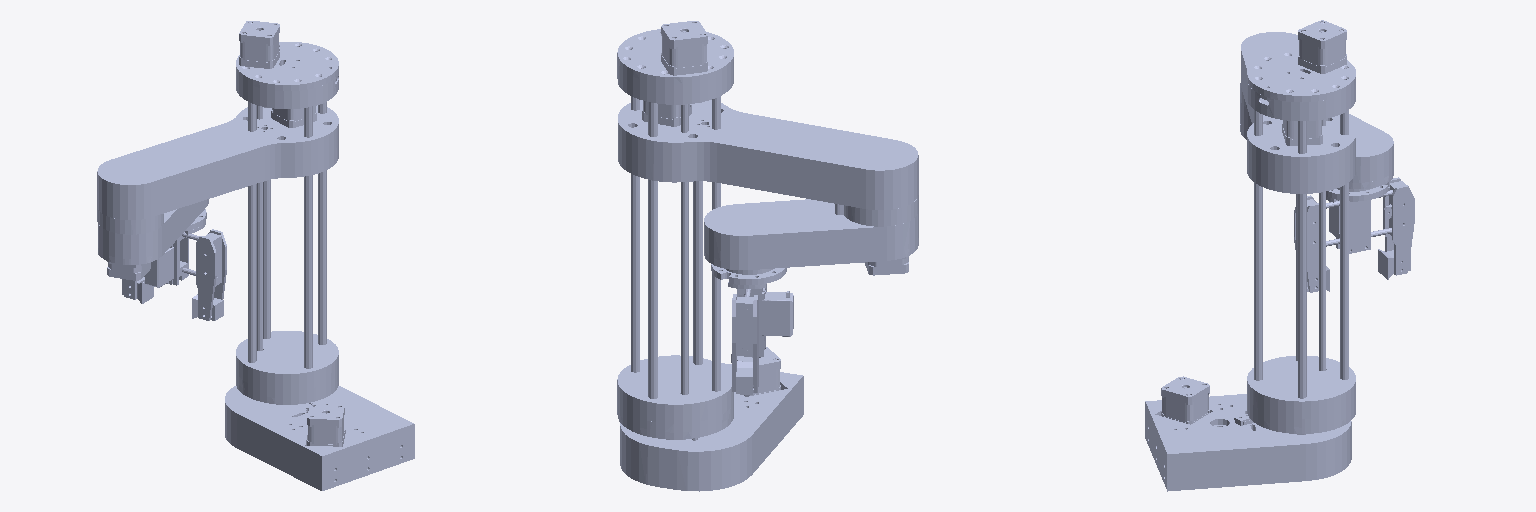
robot.urdf — scara:
<?xml version="1.0" encoding="utf-8" ?>
<!-- This URDF was automatically created by SolidWorks to URDF Exporter! Originally created by [author] ([email redacted]) 
     Commit Version: 1.6.0-4-g7f85cfe  Build Version: 1.6.7995.38578
     For more information, please see http://wiki.ros.org/sw_urdf_exporter -->
<robot name="scara">
    <link name="base_link">
        <inertial>
            <origin xyz="-0.0559432148005522 0.107400404608301 -0.0136704490477564" rpy="0 0 1.745" />
            <mass value="0.567696033845706" />
            <inertia ixx="0.00117832007044877" ixy="-1.32722472852787E-05" ixz="-5.74547542664142E-06" iyy="0.00333381453526779" iyz="-5.81917585828392E-06" izz="0.0023319205252071" />
        </inertial>
        <visual>
            <origin xyz="0 0 0" rpy="0 0 1.745" />
            <geometry>
                <mesh filename="package://scara/meshes/base_link.STL" />
            </geometry>
            <material name="">
                <color rgba="0.792156862745098 0.819607843137255 0.933333333333333 1" />
            </material>
        </visual>
        <collision>
            <origin xyz="0 0 0" rpy="0 0 1.745" />
            <geometry>
                <mesh filename="package://scara/meshes/base_link.STL" />
            </geometry>
        </collision>
    </link>
    <link name="link1">
        <inertial>
            <origin xyz="0.00398515070749521 0.0012304734885111 0.208628021985498" rpy="0 0 0" />
            <mass value="0.592388184768862" />
            <inertia ixx="0.00230324008307559" ixy="4.54488451690003E-06" ixz="-8.19813165922092E-07" iyy="0.00229028805782372" iyz="-4.98199551456662E-08" izz="0.000745657593833466" />
        </inertial>
        <visual>
            <origin xyz="0 0 0" rpy="0 0 263" />
            <geometry>
                <mesh filename="package://scara/meshes/link1.STL" />
            </geometry>
            <material name="">
                <color rgba="0.792156862745098 0.819607843137255 0.933333333333333 1" />
            </material>
        </visual>
        <collision>
            <origin xyz="0 0 0" rpy="0 0 263" />
            <geometry>
                <mesh filename="package://scara/meshes/link1.STL" />
            </geometry>
        </collision>
    </link>
    <joint name="joint1" type="revolute">
        <origin xyz="-0.000314 0.0097731 0.11285" rpy="0 0 2.974" />
        <parent link="base_link" />
        <child link="link1" />
        <axis xyz="0 0 1" />
        <limit lower="0" upper="5.3" effort="0" velocity="0" />
    </joint>
    <link name="link2">
        <inertial>
            <origin xyz="0.120120531120971 0.0233285163492597 0.0337965984065952" rpy="0 0 0" />
            <mass value="0.490908838474279" />
            <inertia ixx="0.000517204178830857" ixy="-0.000206673388248204" ixz="5.6381045631584E-06" iyy="0.00114764695880162" iyz="1.4831396837765E-06" izz="0.0015260358638539" />
        </inertial>
        <visual>
            <origin xyz="0 0 0" rpy="0 0 0" />
            <geometry>
                <mesh filename="package://scara/meshes/link2.STL" />
            </geometry>
            <material name="">
                <color rgba="0.792156862745098 0.819607843137255 0.933333333333333 1" />
            </material>
        </visual>
        <collision>
            <origin xyz="0 0 0" rpy="0 0 0" />
            <geometry>
                <mesh filename="package://scara/meshes/link2.STL" />
            </geometry>
        </collision>
    </link>
    <joint name="joint2" type="prismatic">
        <origin xyz="-0.0425 0 0.30405" rpy="0 0 0" />
        <parent link="link1" />
        <child link="link2" />
        <axis xyz="0 0 1" />
        <limit lower="-0.25" upper="0" effort="0" velocity="0" />
    </joint>
    <link name="link3">
        <inertial>
            <origin xyz="0.0411482166714624 -0.0328195128147589 -0.0318064813169703" rpy="0 0 0" />
            <mass value="0.361872561782423" />
            <inertia ixx="0.000539311352852357" ixy="0.000419112252347005" ixz="-1.90943342949841E-06" iyy="0.000731596594690861" iyz="1.51784166698183E-06" izz="0.00124081046695272" />
        </inertial>
        <visual>
            <origin xyz="0 0 0" rpy="0 0 0" />
            <geometry>
                <mesh filename="package://scara/meshes/link3.STL" />
            </geometry>
            <material name="">
                <color rgba="0.792156862745098 0.819607843137255 0.933333333333333 1" />
            </material>
        </visual>
        <collision>
            <origin xyz="0 0 0" rpy="0 0 0" />
            <geometry>
                <mesh filename="package://scara/meshes/link3.STL" />
            </geometry>
        </collision>
    </link>
    <joint name="joint3" type="revolute">
        <origin xyz="0.26087 0.065575 0" rpy="0 0 -1.6209" />
        <parent link="link2" />
        <child link="link3" />
        <axis xyz="0 0 1" />
        <limit lower="0" upper="5.4" effort="0" velocity="0" />
    </joint>
    <link name="link4">
        <inertial>
            <origin xyz="0.000338084713539272 -0.000682556824741234 -0.0155530475524357" rpy="0 0 0" />
            <mass value="0.0418991154754074" />
            <inertia ixx="1.49190627571846E-05" ixy="-5.28729361013983E-08" ixz="-1.65937357154501E-08" iyy="1.4999618477623E-05" iyz="3.3500975072281E-08" izz="2.74316756500098E-05" />
        </inertial>
        <visual>
            <origin xyz="0 0 0" rpy="0 0 0" />
            <geometry>
                <mesh filename="package://scara/meshes/link4.STL" />
            </geometry>
            <material name="">
                <color rgba="0.792156862745098 0.819607843137255 0.933333333333333 1" />
            </material>
        </visual>
        <collision>
            <origin xyz="0 0 0" rpy="0 0 0" />
            <geometry>
                <mesh filename="package://scara/meshes/link4.STL" />
            </geometry>
        </collision>
    </link>
    <joint name="joint4" type="revolute">
        <origin xyz="0.10676 -0.085051 -0.047" rpy="0 0 -1.9927" />
        <parent link="link3" />
        <child link="link4" />
        <axis xyz="0 0 1" />
        <limit lower="0" upper="5.3" effort="0" velocity="0" />
    </joint>
    <link name="gripper_link">
        <inertial>
            <origin xyz="0.366017145740965 -0.00835853113241894 0.114010116951321" rpy="0 0 0" />
            <mass value="0.0761012463007395" />
            <inertia ixx="2.69795628491282E-05" ixy="-1.78700373428015E-06" ixz="1.9970548981517E-08" iyy="3.88603692194263E-05" iyz="2.39103286032331E-08" izz="2.2754892417133E-05" />
        </inertial>
        <visual>
            <origin xyz="0 0 0" rpy="0 0 0" />
            <geometry>
                <mesh filename="package://scara/meshes/gripper_link.STL" />
            </geometry>
            <material name="">
                <color rgba="0.792156862745098 0.819607843137255 0.933333333333333 1" />
            </material>
        </visual>
        <collision>
            <origin xyz="0 0 0" rpy="0 0 0" />
            <geometry>
                <mesh filename="package://scara/meshes/gripper_link.STL" />
            </geometry>
        </collision>
    </link>
    <joint name="gripper" type="fixed">
        <origin xyz="0.28597 -0.23184 -0.17462" rpy="0 0 2.5133" />
        <parent link="link4" />
        <child link="gripper_link" />
        <axis xyz="0 0 0" />
    </joint>
    <link name="finger_link1">
        <inertial>
            <origin xyz="0.326447727583928 -0.0255207025019713 0.0914731627239749" rpy="0 0 0" />
            <mass value="0.046190075590137" />
            <inertia ixx="2.0544145789691E-05" ixy="-1.92958422300417E-07" ixz="1.50941816075993E-07" iyy="2.18304443528183E-05" iyz="2.21550545201902E-08" izz="3.04433968977455E-06" />
        </inertial>
        <visual>
            <origin xyz="0 0 0" rpy="0 0 0" />
            <geometry>
                <mesh filename="package://scara/meshes/finger_link1.STL" />
            </geometry>
            <material name="">
                <color rgba="0.792156862745098 0.819607843137255 0.933333333333333 1" />
            </material>
        </visual>
        <collision>
            <origin xyz="0 0 0" rpy="0 0 0" />
            <geometry>
                <mesh filename="package://scara/meshes/finger_link1.STL" />
            </geometry>
        </collision>
    </link>
    <joint name="finger_joint1" type="prismatic">
        <origin xyz="-0.010836 -0.0015905 0" rpy="0 0 0" />
        <parent link="gripper_link" />
        <child link="finger_link1" />
        <axis xyz="1 0 0" />
        <limit lower="0" upper="0.025" effort="0" velocity="0" />
    </joint>
    <link name="finger_link2">
        <inertial>
            <origin xyz="0.409650090019631 -0.011840574126556 0.0914731627239749" rpy="0 0 0" />
            <mass value="0.0461900755901369" />
            <inertia ixx="2.05441457896909E-05" ixy="-1.92958422300408E-07" ixz="-1.50941816076044E-07" iyy="2.18304443528182E-05" iyz="-2.21550545194695E-08" izz="3.04433968977453E-06" />
        </inertial>
        <visual>
            <origin xyz="0 0 0" rpy="0 0 0" />
            <geometry>
                <mesh filename="package://scara/meshes/finger_link2.STL" />
            </geometry>
            <material name="">
                <color rgba="0.792156862745098 0.819607843137255 0.933333333333333 1" />
            </material>
        </visual>
        <collision>
            <origin xyz="0 0 0" rpy="0 0 0" />
            <geometry>
                <mesh filename="package://scara/meshes/finger_link2.STL" />
            </geometry>
        </collision>
    </link>
    <joint name="finger_joint2" type="prismatic">
        <origin xyz="0.01 0 0" rpy="0 0 0" />
        <parent link="gripper_link" />
        <child link="finger_link2" />
        <axis xyz="1 0 0" />
        <limit lower="-0.025" upper="0" effort="0" velocity="0" />
        <mimic joint="finger_joint1" multiplier="-1" offset="0" />
    </joint>
    <transmission name="trans_joint1">
        <type>transmission_interface/SimpleTransmission</type>
        <joint name="joint1">
            <hardwareInterface>hardware_interface/PositionJointInterface</hardwareInterface>
        </joint>
        <actuator name="joint1_motor">
            <hardwareInterface>hardware_interface/PositionJointInterface</hardwareInterface>
            <mechanicalReduction>1</mechanicalReduction>
        </actuator>
    </transmission>
    <transmission name="trans_joint2">
        <type>transmission_interface/SimpleTransmission</type>
        <joint name="joint2">
            <hardwareInterface>hardware_interface/PositionJointInterface</hardwareInterface>
        </joint>
        <actuator name="joint2_motor">
            <hardwareInterface>hardware_interface/PositionJointInterface</hardwareInterface>
            <mechanicalReduction>1</mechanicalReduction>
        </actuator>
    </transmission>
    <transmission name="trans_joint3">
        <type>transmission_interface/SimpleTransmission</type>
        <joint name="joint3">
            <hardwareInterface>hardware_interface/PositionJointInterface</hardwareInterface>
        </joint>
        <actuator name="joint3_motor">
            <hardwareInterface>hardware_interface/PositionJointInterface</hardwareInterface>
            <mechanicalReduction>1</mechanicalReduction>
        </actuator>
    </transmission>
    <transmission name="trans_joint4">
        <type>transmission_interface/SimpleTransmission</type>
        <joint name="joint4">
            <hardwareInterface>hardware_interface/PositionJointInterface</hardwareInterface>
        </joint>
        <actuator name="joint4_motor">
            <hardwareInterface>hardware_interface/PositionJointInterface</hardwareInterface>
            <mechanicalReduction>1</mechanicalReduction>
        </actuator>
    </transmission>
    <transmission name="trans_finger_joint1">
        <type>transmission_interface/SimpleTransmission</type>
        <joint name="finger_joint1">
            <hardwareInterface>hardware_interface/PositionJointInterface</hardwareInterface>
        </joint>
        <actuator name="finger_joint1_motor">
            <hardwareInterface>hardware_interface/PositionJointInterface</hardwareInterface>
            <mechanicalReduction>1</mechanicalReduction>
        </actuator>
    </transmission>
    <transmission name="trans_finger_joint2">
        <type>transmission_interface/SimpleTransmission</type>
        <joint name="finger_joint2">
            <hardwareInterface>hardware_interface/EffortJointInterface</hardwareInterface>
        </joint>
        <actuator name="finger_joint2_motor">
            <hardwareInterface>hardware_interface/EffortJointInterface</hardwareInterface>
            <mechanicalReduction>1</mechanicalReduction>
        </actuator>
    </transmission>
    <gazebo>
        <plugin name="gazebo_ros_control">
            <robotNamespace>/</robotNamespace>
        </plugin>
    </gazebo>
</robot>

--- Render facts (derived) ---
3 views of the same robot in one strip: view 1: azimuth 30°, elevation 25°; view 2: azimuth 150°, elevation 25°; view 3: azimuth 270°, elevation 25° (orthographic).
Model scara with 8 links and 7 joints (3 revolute, 3 prismatic, 1 fixed), rooted at base_link, posed all joints at 0.
Visible links, largest first — view 1: link1, link2, base_link, link3, finger_link1, gripper_link, finger_link2; view 2: link1, link2, link3, base_link, finger_link2, gripper_link, link4; view 3: link1, base_link, link2, link3, finger_link2, gripper_link, finger_link1, link4.
Boxes of the visible links, x1,y1,x2,y2 form: link1: (236,21,338,404); link2: (97,105,338,219); base_link: (225,386,414,490); link3: (97,199,208,280); finger_link1: (192,229,226,320); gripper_link: (145,222,218,287); finger_link2: (122,276,153,303); link1: (617,21,733,440); link2: (618,100,918,209); link3: (704,195,918,275); base_link: (620,347,803,491); finger_link2: (732,294,758,394); gripper_link: (728,282,793,352); link4: (711,264,786,284); link1: (1247,20,1355,434); base_link: (1145,376,1351,491); link2: (1241,32,1355,193); link3: (1240,83,1393,188); finger_link2: (1378,177,1414,279); gripper_link: (1326,187,1392,253); finger_link1: (1294,195,1329,292); link4: (1326,182,1389,201).
Bounding box of the posed robot: 0.3509 × 0.2957 × 0.5075 m (x, y, z).
8 mesh visuals loaded from 8 distinct referenced files (8 binary STL).